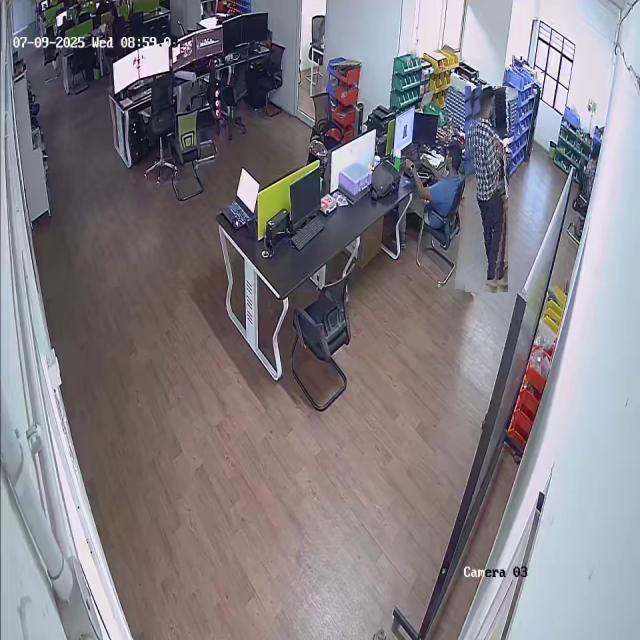person: (460, 85, 513, 293)
